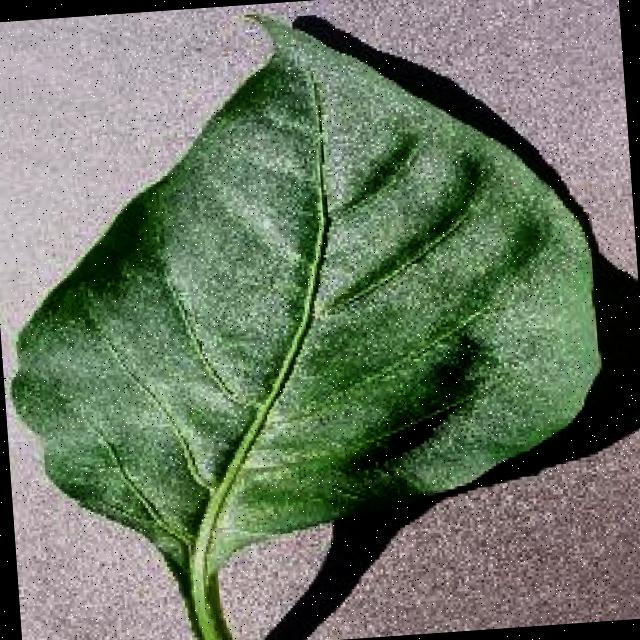Leaf: (138, 82, 531, 476)
